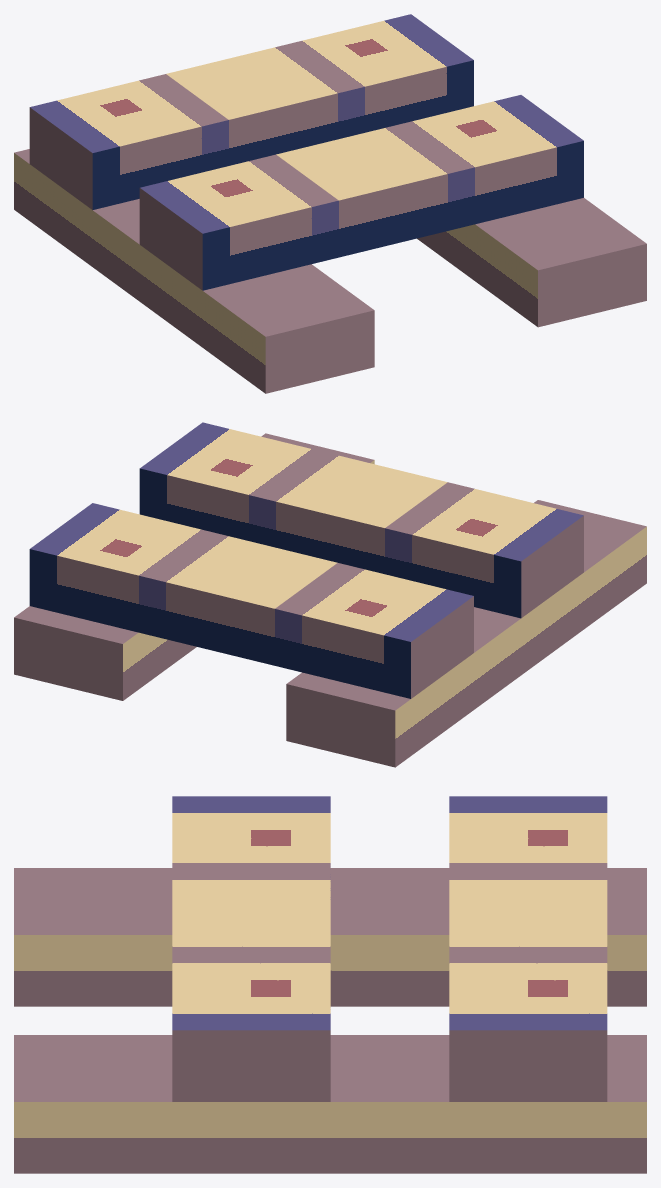
File: Ladder.gltf
3 renders of one model, top to bottom at view 1: azimuth 30°, elevation 25°; view 2: azimuth 150°, elevation 25°; view 3: azimuth 270°, elevation 25°, orthographic. The views are drawn at different scales.
Visible parts, largest first — view 1: Ladder; view 2: Ladder; view 3: Ladder.
Part boxes in pixels (x1,y1,x2,y2): Ladder: (14, 14, 646, 393); Ladder: (14, 422, 646, 767); Ladder: (14, 796, 646, 1173).
Size of the model in its own units: 0.875 by 0.25 by 1.
Materials: 1 (1 with a texture image).
